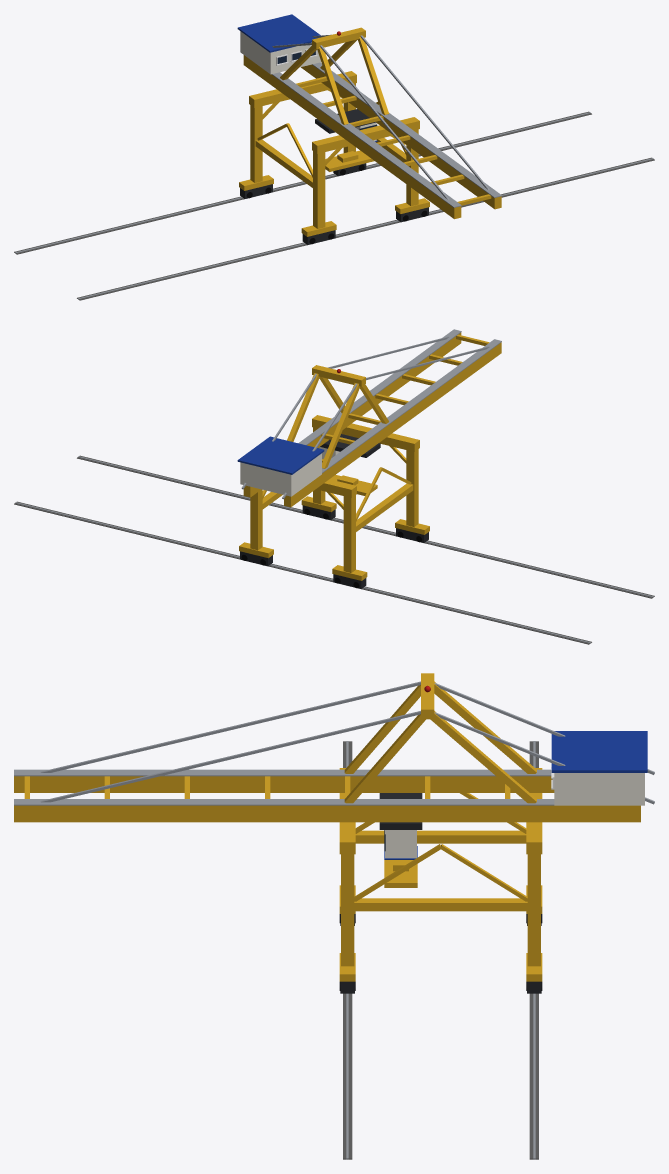
The model's file is SM_Harbor_Crane.fbx.
The picture shows the model from 3 angles, top to bottom: view 1: azimuth 30°, elevation 25°; view 2: azimuth 150°, elevation 25°; view 3: azimuth 270°, elevation 25°; orthographic projection. The views are drawn at different scales.
Parts seen in each view (by area): view 1: SM_Harbor_Crane; view 2: SM_Harbor_Crane; view 3: SM_Harbor_Crane.
Part boxes in pixels (<box>): SM_Harbor_Crane: <box>14,14,654,300</box>; SM_Harbor_Crane: <box>14,329,654,644</box>; SM_Harbor_Crane: <box>14,673,654,1159</box>.
Bounding box in the file's own units: 74 × 21.9 × 48.04.
